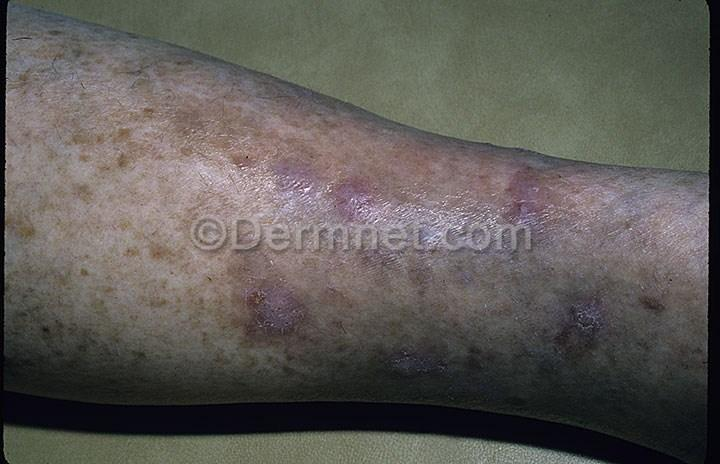Eczema: (255, 134, 409, 264), (217, 244, 309, 354), (532, 262, 634, 359), (408, 145, 498, 237), (557, 169, 653, 255), (171, 116, 259, 198), (634, 280, 709, 371), (412, 219, 492, 303), (497, 167, 569, 256), (649, 173, 712, 271), (122, 201, 190, 288), (31, 297, 111, 370), (228, 79, 323, 139), (159, 232, 222, 318), (536, 362, 619, 426), (0, 160, 52, 259), (313, 280, 362, 384), (370, 325, 437, 397), (55, 153, 115, 232), (50, 87, 113, 156), (453, 318, 513, 390), (103, 54, 168, 116), (0, 75, 48, 154), (107, 118, 163, 184), (136, 263, 184, 339), (624, 374, 683, 433), (350, 252, 412, 308), (34, 24, 90, 86), (163, 70, 230, 120), (51, 250, 121, 295), (180, 322, 226, 388), (324, 95, 387, 141), (4, 276, 32, 376), (246, 341, 301, 391), (494, 252, 533, 313), (119, 339, 170, 385), (92, 19, 140, 55)
